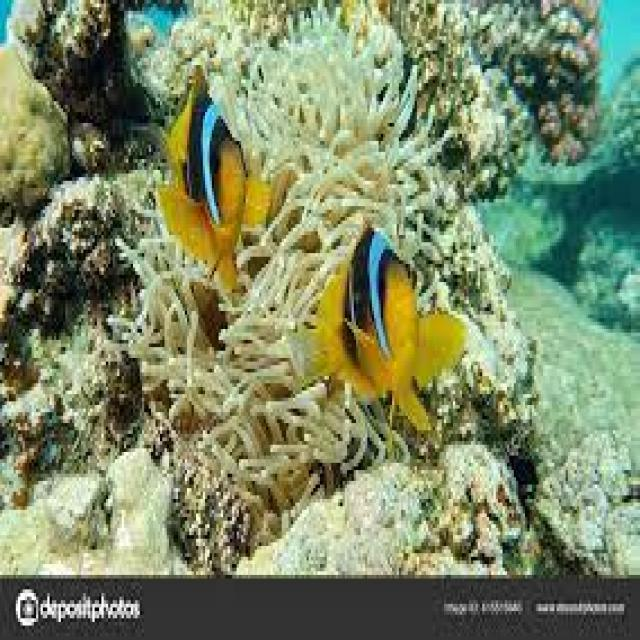Clownfish: (321, 226, 461, 429), (165, 75, 269, 294)
